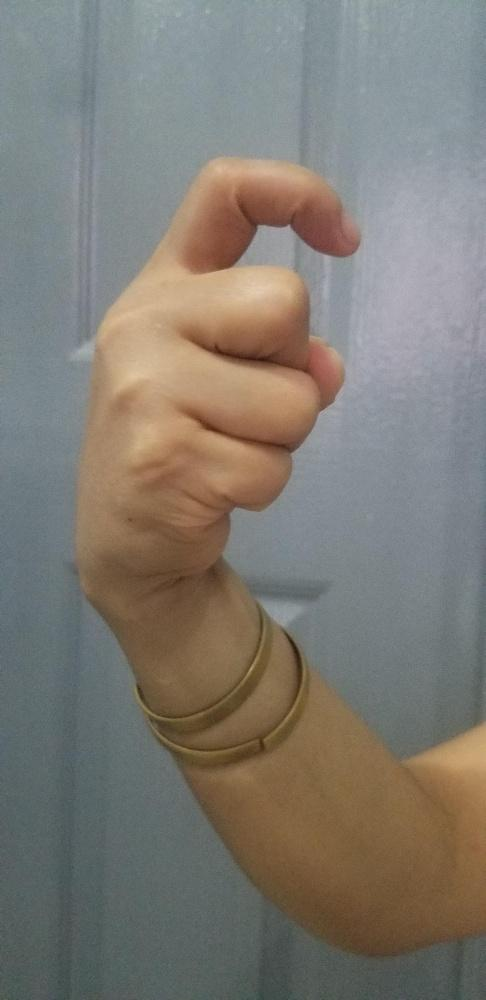x: (71, 154, 363, 602)
